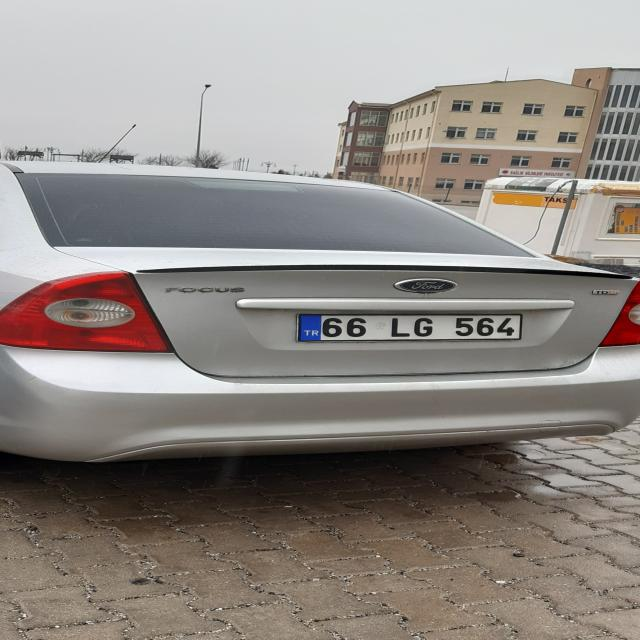license_plate: (296, 314, 523, 341)
